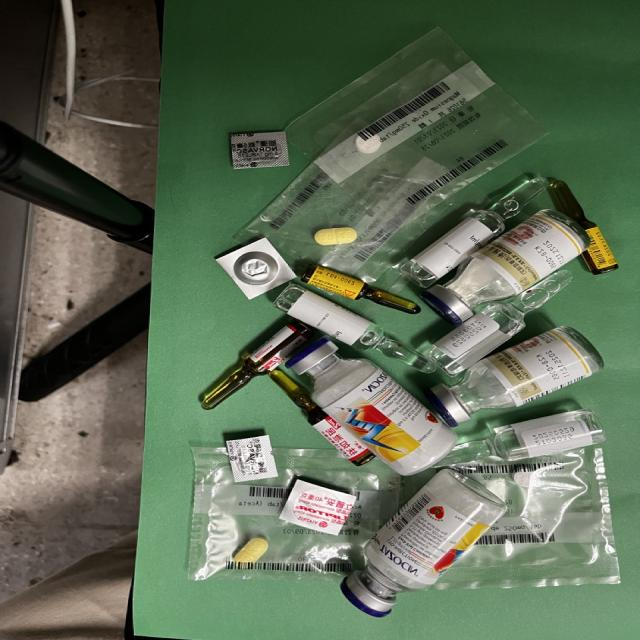Ampoules: (400, 176, 550, 288), (428, 270, 574, 377), (273, 284, 435, 373), (432, 407, 608, 468), (201, 320, 317, 411), (269, 370, 375, 466), (550, 181, 620, 275), (301, 264, 421, 314)
Vials: (339, 468, 507, 618), (285, 338, 457, 476), (420, 209, 591, 326), (423, 326, 603, 427)
